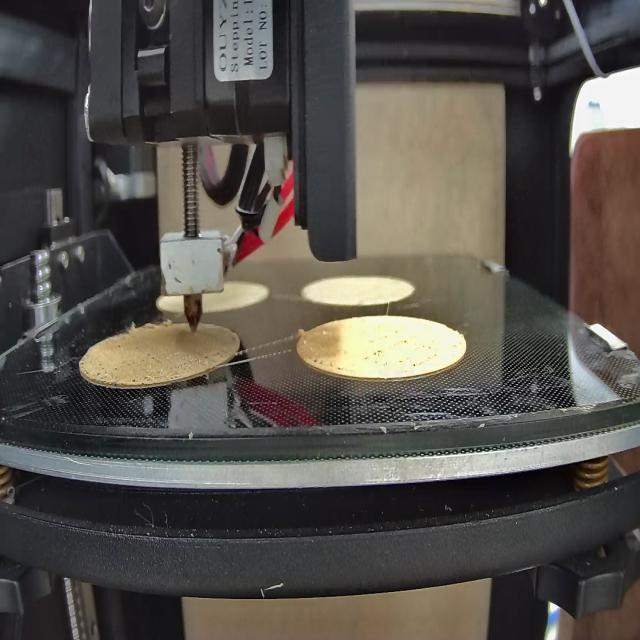under_extrusion: (313, 342, 444, 372), (81, 352, 162, 388), (201, 351, 211, 364)
